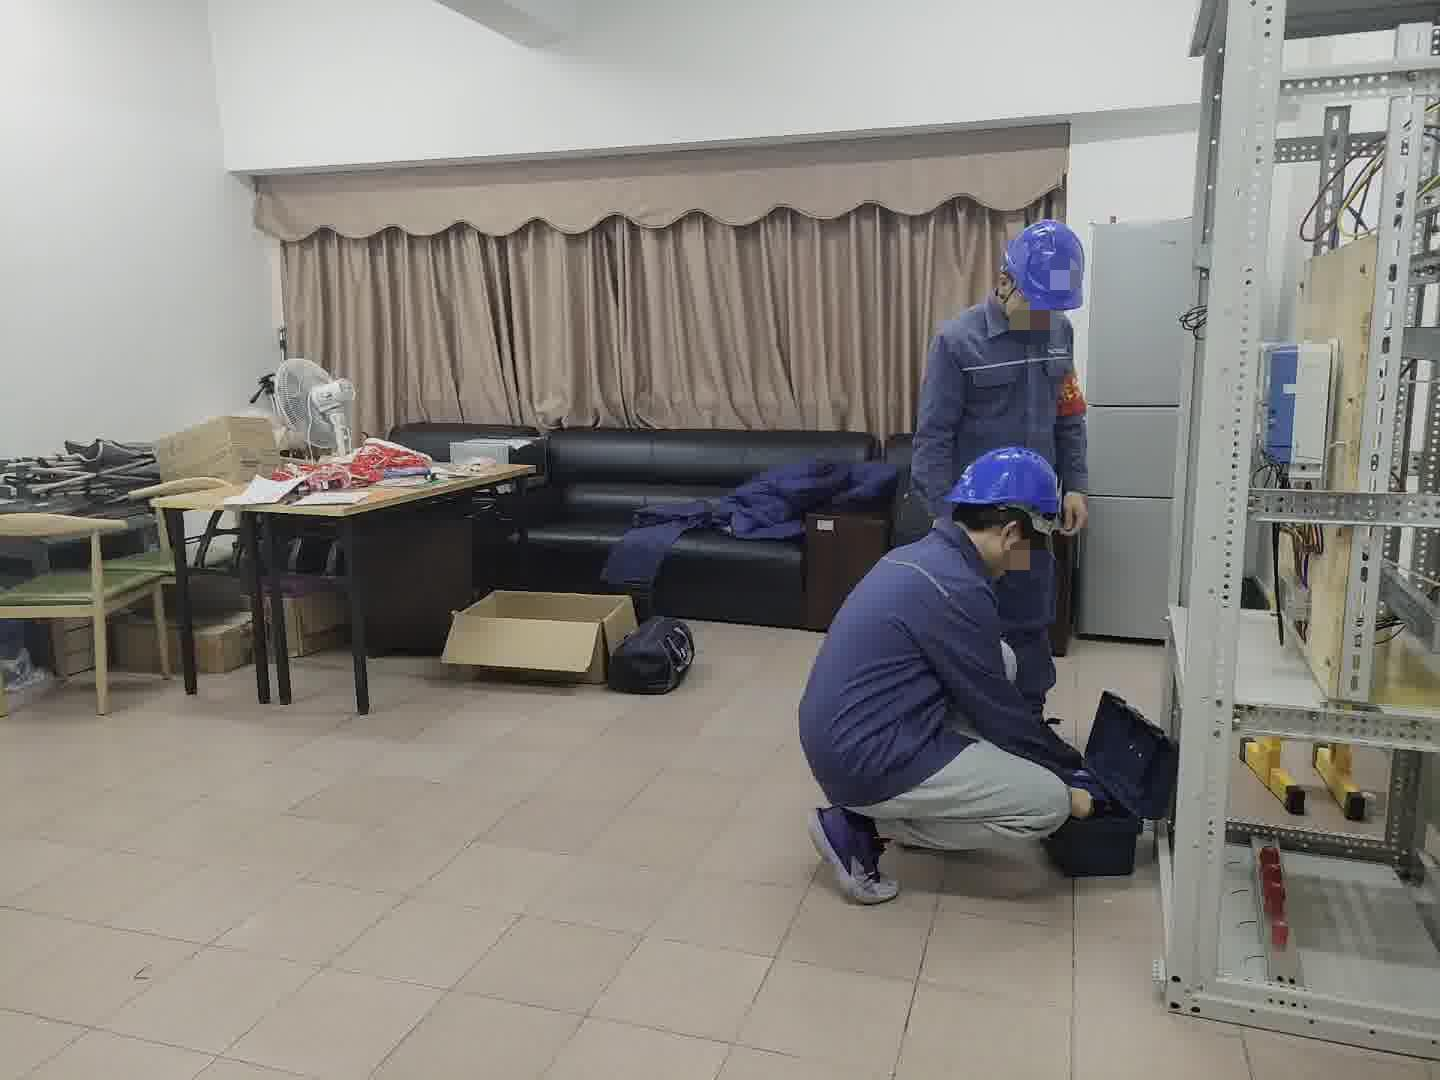halt: (946, 449, 1064, 581), (1003, 222, 1090, 332)
noear: (992, 517, 1031, 575)
